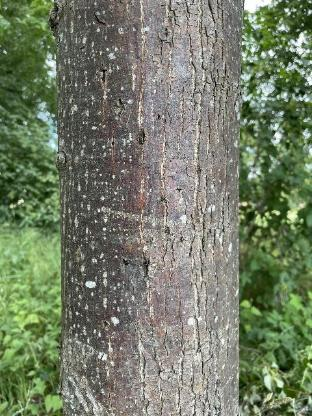tree: (37, 0, 249, 414)
